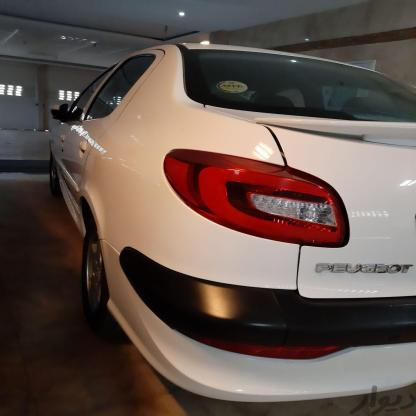Car: (37, 40, 416, 400)
